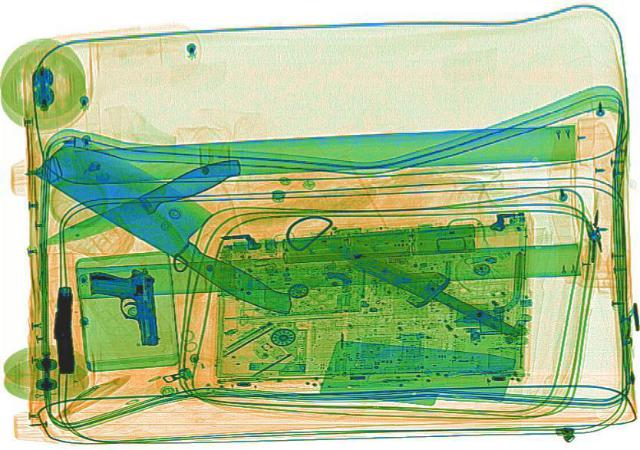Gun: (86, 263, 162, 346), (50, 285, 74, 370)
Knife: (20, 131, 336, 317), (298, 218, 532, 343), (28, 152, 250, 254)
